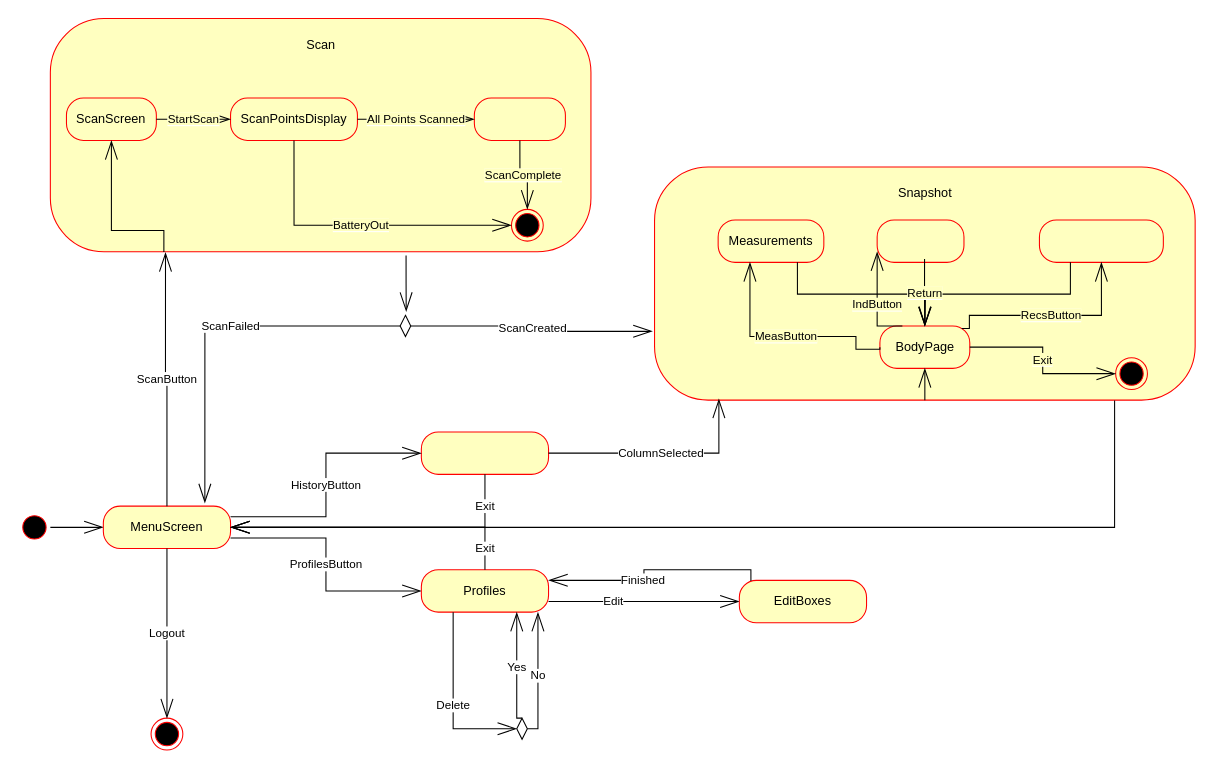
The diagram is 1214 pixels wide and 768 high, and some of its shapes have lost their labels. The shapes that lost their labels are listed below. From the top down, each one's box as (x1, y1, x2, y2) in pixels, then its label:
(473, 97, 565, 140): ScanInfoBoxes
(876, 219, 964, 262): Indicators
(1038, 219, 1163, 262): Recommendations
(420, 431, 549, 474): History
